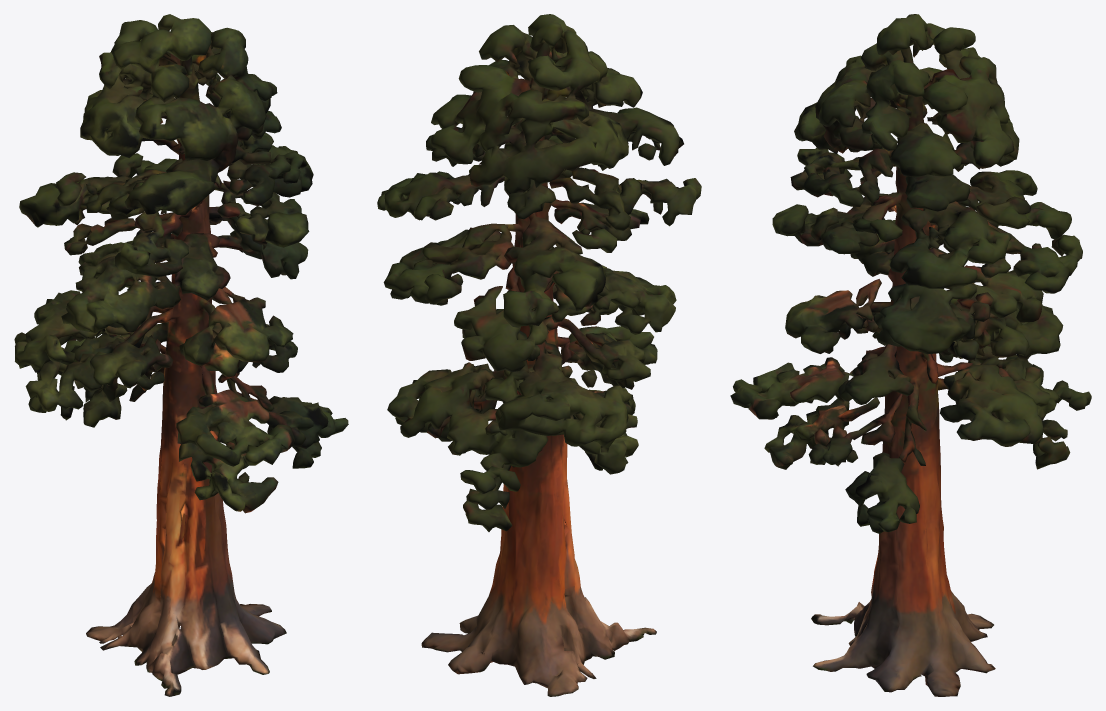
Rendered from AI_FireScarredRedwood.fbx.
The picture shows the model from 3 angles, left to right: view 1: azimuth 30°, elevation 25°; view 2: azimuth 150°, elevation 25°; view 3: azimuth 270°, elevation 25°; orthographic projection.
Parts seen in each view (by area): view 1: Mesh_0; view 2: Mesh_0; view 3: Mesh_0.
Boxes of the visible parts, left/top/right/bottom form: Mesh_0: left=14, top=14, right=348, bottom=696; Mesh_0: left=377, top=14, right=701, bottom=696; Mesh_0: left=730, top=14, right=1091, bottom=696.
Size of the model in its own units: 91.08 by 201 by 104.
Materials: 1 (1 with a texture image).
